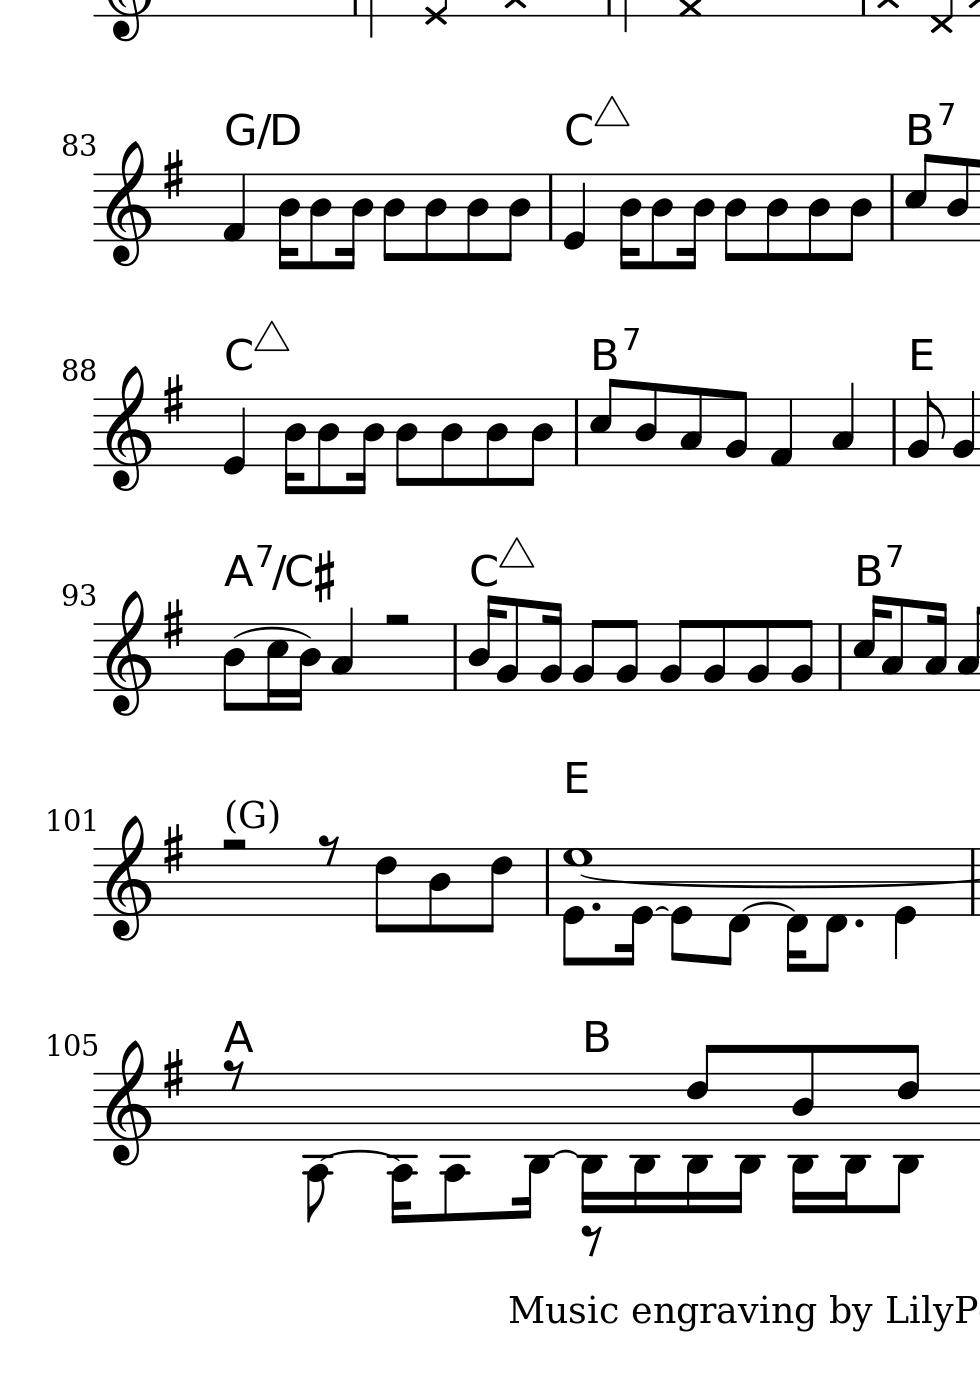0: (62, 1030, 80, 1060), (62, 806, 80, 835)
1: (45, 805, 62, 838), (45, 1031, 62, 1062), (81, 807, 97, 836)
16_-1: (818, 842, 848, 975), (785, 844, 809, 973)
16_-3: (515, 1070, 552, 1222), (577, 1073, 605, 1215), (632, 1069, 660, 1211), (736, 1070, 764, 1212), (840, 1072, 868, 1214), (681, 1074, 708, 1216), (789, 1072, 817, 1214)
16_-4: (386, 1071, 419, 1227)
16_0: (614, 845, 653, 969)
16_2: (537, 600, 563, 694)
16_3: (923, 601, 948, 694), (955, 604, 980, 692)
16_4: (335, 171, 373, 273), (346, 396, 384, 497), (677, 172, 715, 273), (466, 593, 504, 692), (291, 621, 321, 714), (282, 397, 307, 498), (276, 172, 300, 273), (617, 172, 641, 273)
16_5: (851, 592, 883, 692), (264, 620, 288, 712)
3: (78, 131, 97, 159), (78, 581, 97, 609)
4_0: (892, 847, 916, 961), (221, 397, 247, 477), (562, 171, 587, 252)
4_1: (766, 396, 794, 468), (221, 173, 247, 244)
4_2: (950, 389, 975, 468)
4_3: (330, 606, 354, 694), (830, 381, 855, 467)
5: (81, 1030, 98, 1060)
7: (937, 99, 956, 127), (623, 324, 640, 353), (886, 541, 903, 568)
8: (60, 131, 78, 159), (60, 356, 78, 384), (78, 356, 97, 384)
8_-1: (721, 846, 751, 969)
8_-3: (893, 1073, 921, 1215)
8_-4: (438, 1070, 471, 1224), (301, 1068, 332, 1225)
8_0: (669, 846, 693, 965)
8_2: (905, 389, 944, 467), (658, 617, 689, 692), (571, 617, 601, 694), (496, 595, 520, 694), (722, 388, 749, 469), (745, 617, 771, 692), (701, 618, 727, 692), (614, 617, 638, 694), (789, 617, 813, 694)
8_3: (879, 594, 905, 694), (678, 384, 705, 468)
8_4: (519, 396, 555, 489), (497, 173, 531, 264), (840, 172, 873, 264), (314, 397, 340, 498), (789, 1042, 816, 1144), (483, 396, 509, 490), (307, 172, 331, 273), (648, 172, 672, 273), (763, 172, 789, 264), (438, 396, 463, 490), (463, 172, 489, 265), (805, 172, 830, 264), (220, 621, 245, 714), (382, 172, 406, 265), (422, 172, 447, 265), (393, 397, 418, 490), (945, 156, 970, 243), (426, 846, 451, 935), (723, 172, 747, 264), (633, 381, 658, 468)
8_5: (587, 378, 619, 468), (902, 151, 933, 243)
8_6: (684, 1041, 719, 1143), (479, 846, 513, 935), (895, 1042, 920, 1141), (372, 846, 397, 936)
9: (60, 581, 78, 609)
Gclef: (103, 139, 154, 268), (103, 364, 154, 493), (102, 815, 153, 944), (103, 589, 153, 718), (103, 1039, 152, 1166)
Rests2: (381, 608, 415, 630), (217, 835, 251, 854)
Rests8: (316, 831, 342, 867), (578, 1222, 603, 1257), (222, 1058, 248, 1091)
Sharp: (160, 821, 186, 878), (160, 372, 185, 427), (160, 147, 185, 201), (161, 597, 185, 652), (161, 1047, 185, 1101), (314, 549, 336, 603)
Single_barline: (832, 622, 848, 690), (539, 848, 556, 915), (447, 624, 462, 690), (568, 399, 584, 464), (886, 399, 902, 464), (543, 174, 558, 240), (885, 174, 899, 240), (965, 849, 979, 915)
dot: (589, 900, 603, 915), (852, 916, 867, 930)
